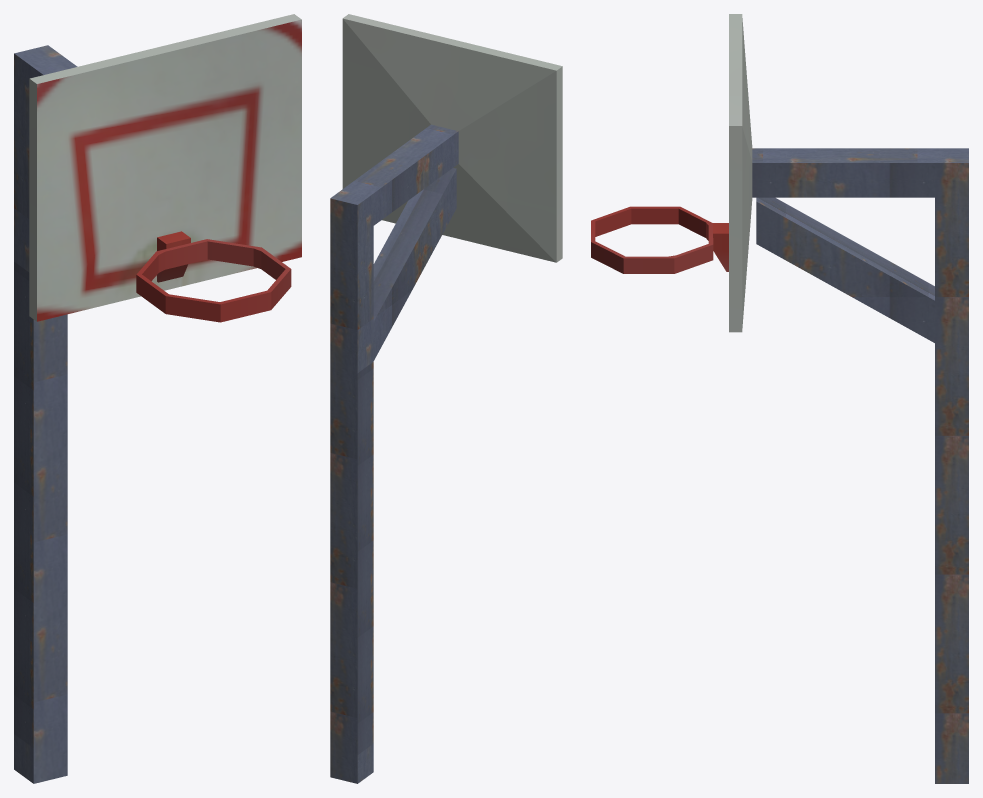
File: basketballhoop.fbx
3 renders of one model, left to right at view 1: azimuth 30°, elevation 25°; view 2: azimuth 150°, elevation 25°; view 3: azimuth 270°, elevation 25°, orthographic. The views are drawn at different scales.
Visible parts, largest first — view 1: Cube, Plane, Cube.001; view 2: Cube; view 3: Cube, Plane.
Part boxes in pixels (left/top/right/bottom): Cube: left=14, top=14, right=301, bottom=783; Plane: left=136, top=239, right=291, bottom=322; Cube.001: left=157, top=231, right=190, bottom=282; Cube: left=330, top=14, right=562, bottom=783; Cube: left=729, top=14, right=968, bottom=783; Plane: left=591, top=206, right=713, bottom=273.
Bounding box in the file's own units: 780 × 2292 × 1111.
